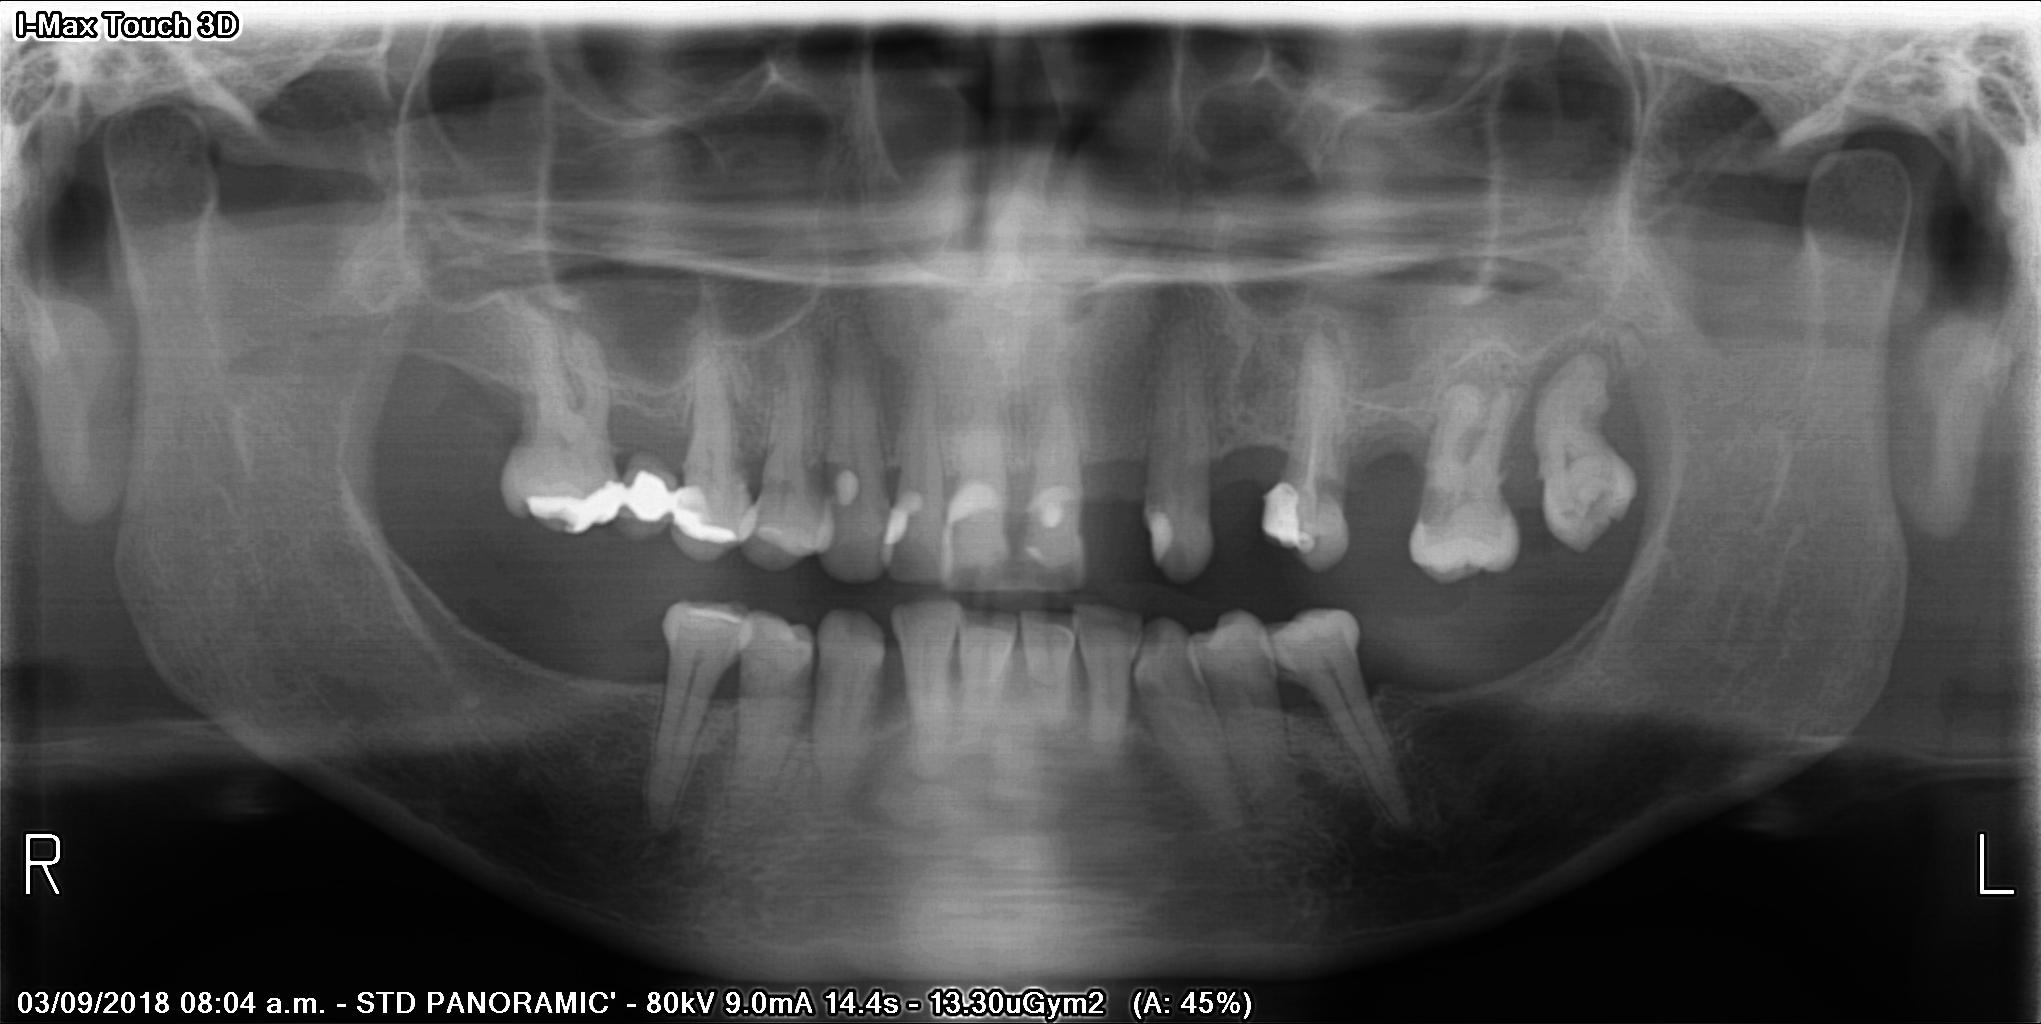Çürük: (508, 468, 629, 528), (1264, 478, 1320, 562), (679, 486, 743, 546), (881, 491, 922, 555), (829, 473, 858, 513)
Çürük Bölgesi: (996, 505, 1033, 550), (1412, 488, 1444, 537), (817, 457, 850, 494)
